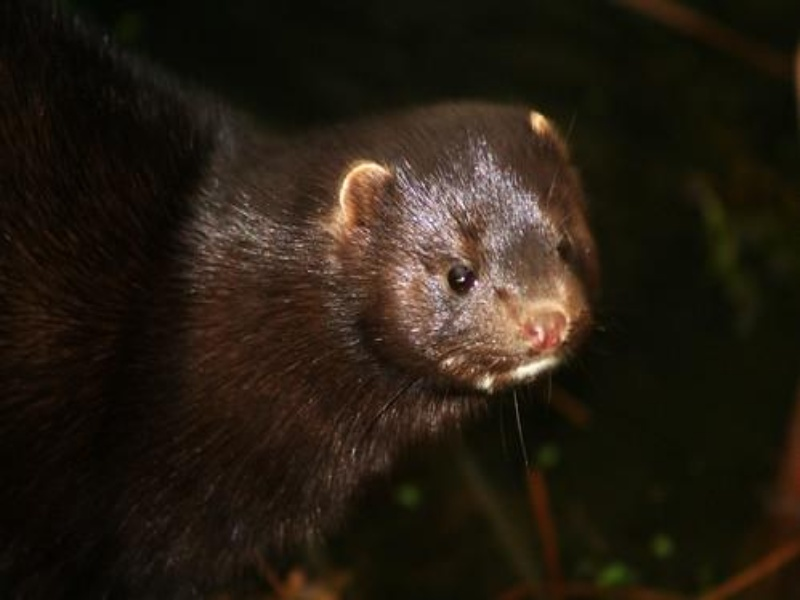minkish: (142, 86, 593, 582)
